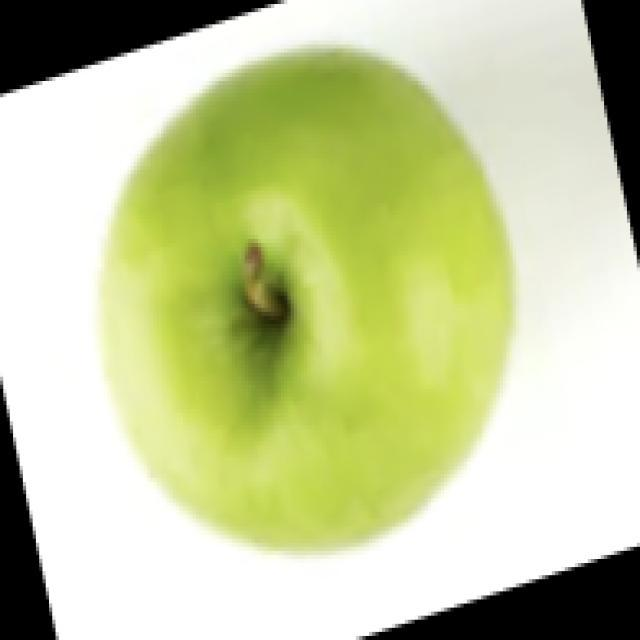Fresh Apple: (97, 40, 510, 550)
